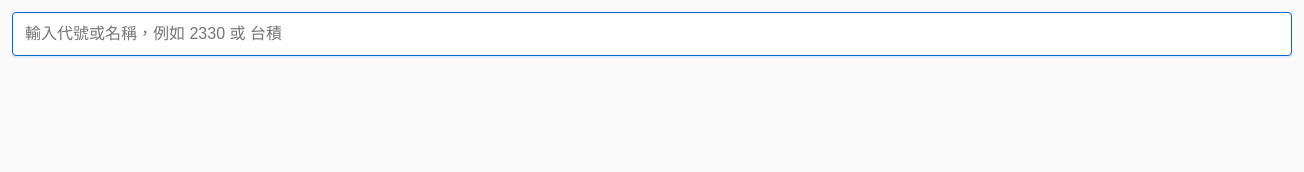
it: SearchPage › should show no results message when API returns empty
Type "xyz" into the search field named "搜尋股票代號或名稱" at [652, 34], box [12, 12, 1292, 56]
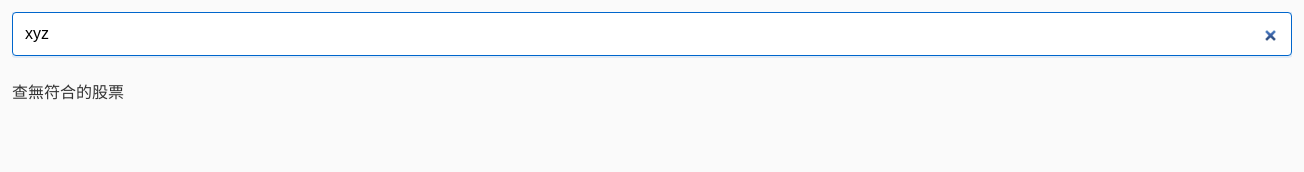
Expected: the text "查無符合的股票" is shown, [12, 82, 124, 102]
